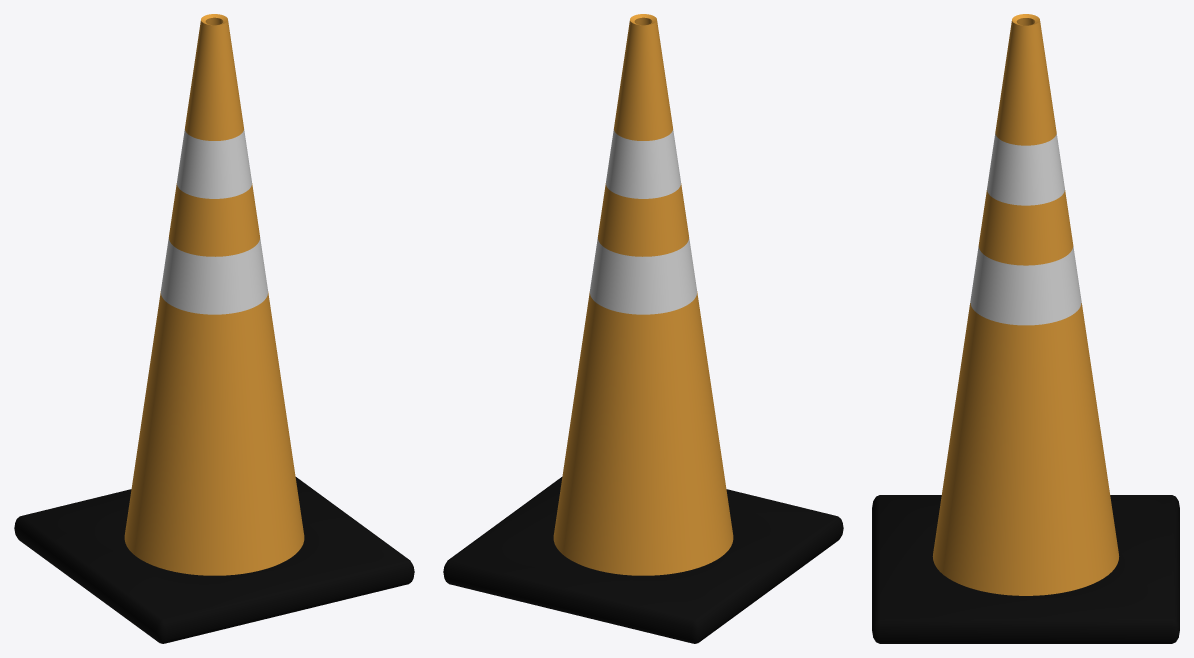
Rendered from traffic_cone.glb.
3 renders of one model, left to right at view 1: azimuth 30°, elevation 25°; view 2: azimuth 150°, elevation 25°; view 3: azimuth 270°, elevation 25°, orthographic. The views are drawn at different scales.
Visible parts, largest first — view 1: Cone; view 2: Cone; view 3: Cone.
Boxes of the visible parts, x1=… form: Cone: x1=14, y1=14, x2=414, y2=643; Cone: x1=443, y1=14, x2=843, y2=643; Cone: x1=872, y1=14, x2=1179, y2=643.
Size of the model in its own units: 0.445 by 0.903 by 0.445.
